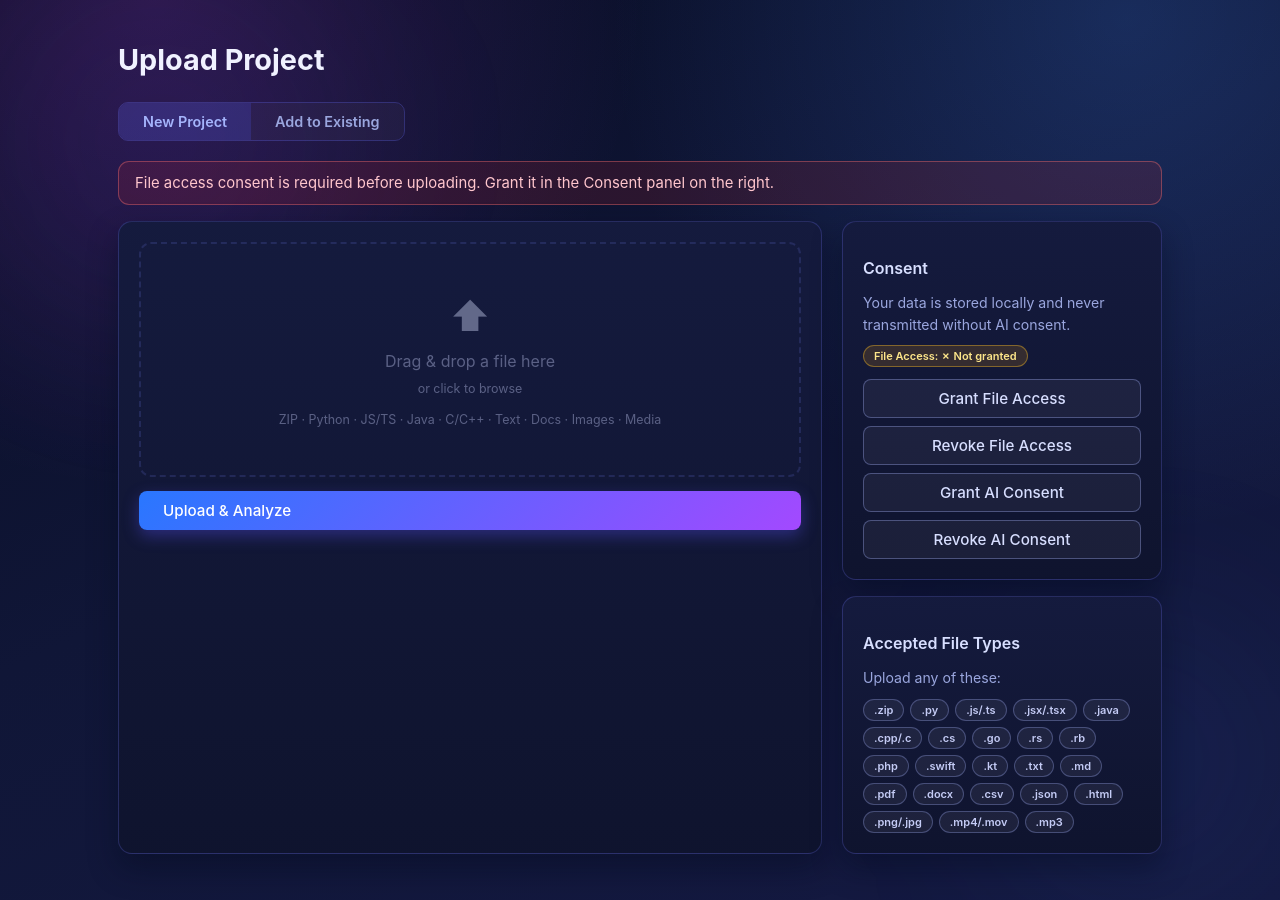
Scenario: Upload - tab switching › switches to incremental tab on click
Click the button "Add to Existing" at (327, 121), box [251,103,404,140]
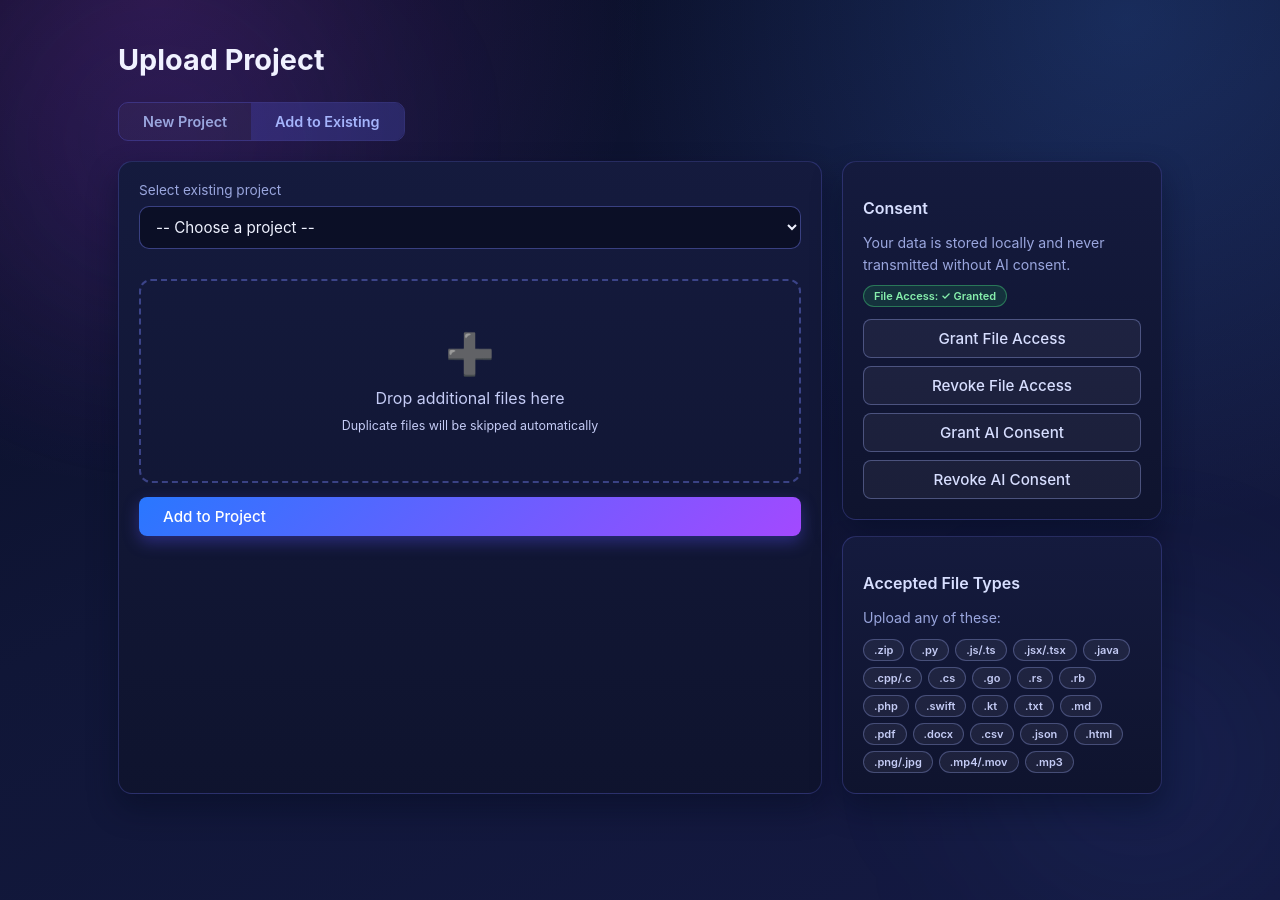
Result: the text "Drop additional files here" is shown at [376,388,564,408]
